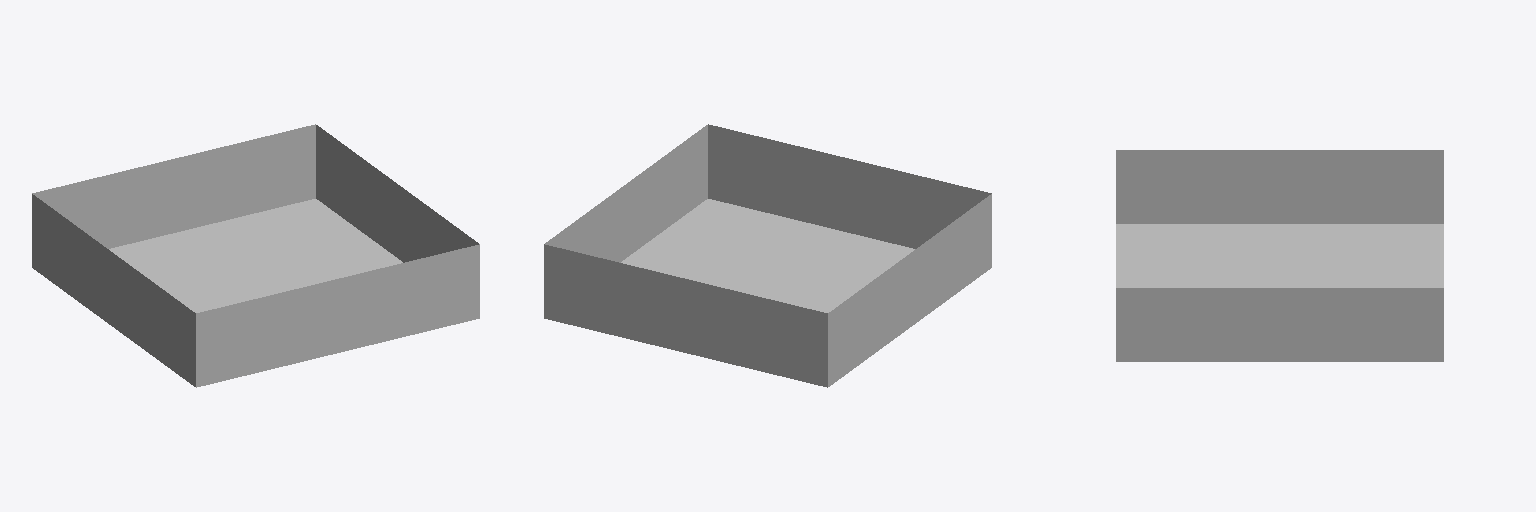
The model's file is encased-terrain.obj.
3 views of the same model, side by side, from view 1: azimuth 30°, elevation 25°; view 2: azimuth 150°, elevation 25°; view 3: azimuth 270°, elevation 25° (orthographic).
Parts seen in each view (by area): view 1: enclosed-terrain_Plane.001; view 2: enclosed-terrain_Plane.001; view 3: enclosed-terrain_Plane.001.
Boxes of the visible parts, <box> form: enclosed-terrain_Plane.001: <box>32,124,479,387</box>; enclosed-terrain_Plane.001: <box>544,124,991,387</box>; enclosed-terrain_Plane.001: <box>1116,150,1443,361</box>.
Bounding box in the file's own units: 32 × 8 × 32.